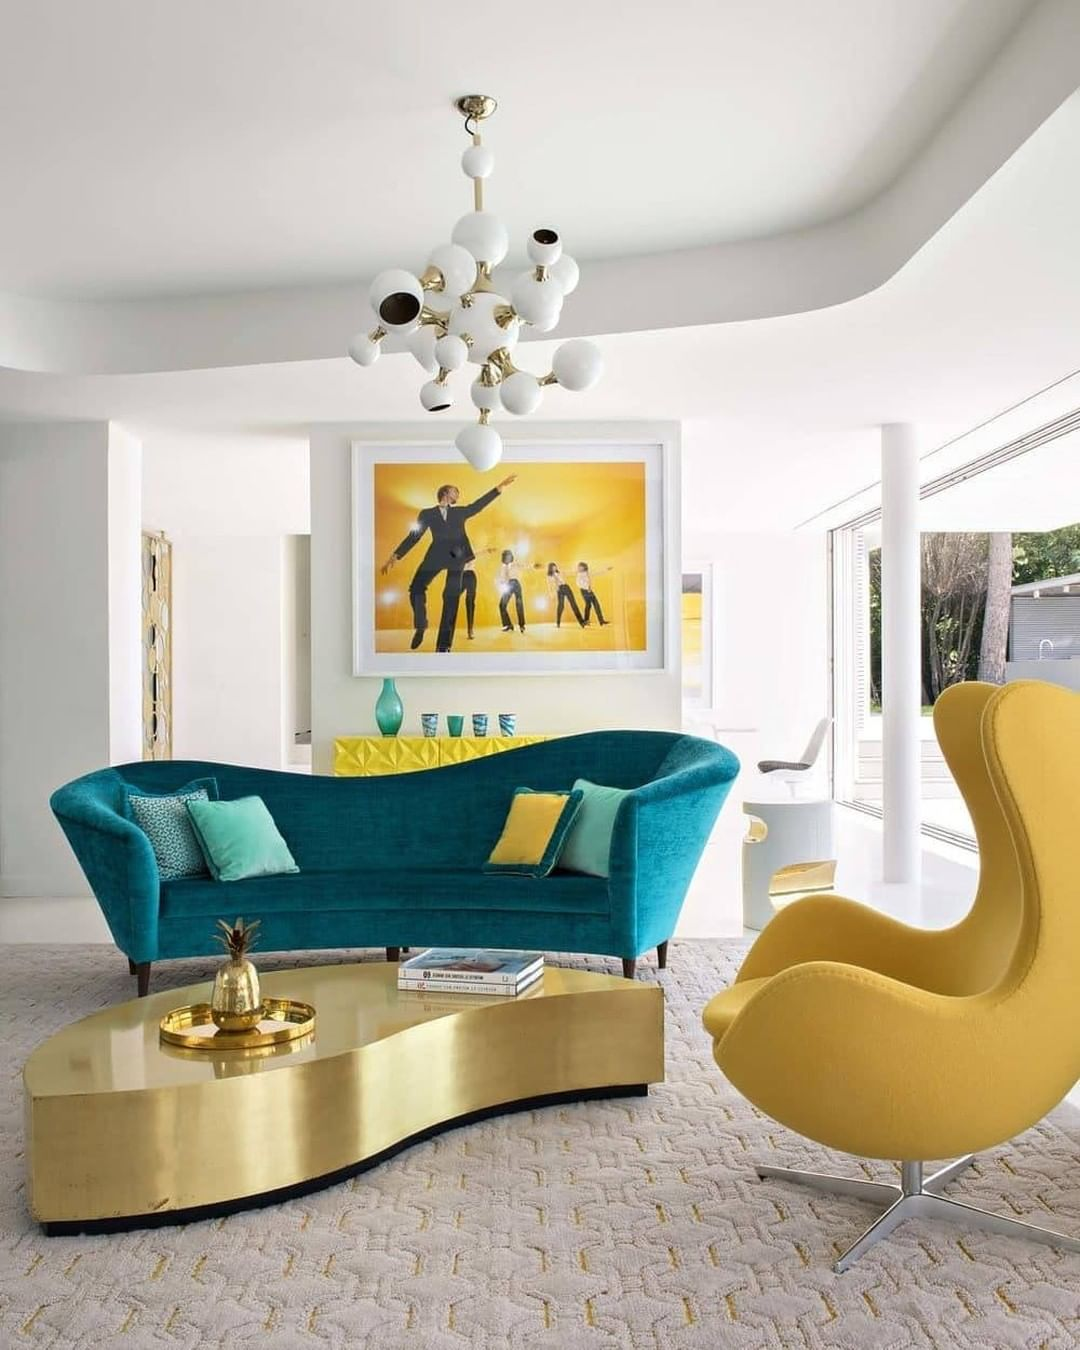biru: (58, 728, 725, 961), (191, 800, 298, 877)
hijau: (372, 677, 406, 738), (446, 713, 466, 738)
kuning: (725, 679, 1080, 1158), (337, 732, 514, 764), (490, 797, 555, 864)
